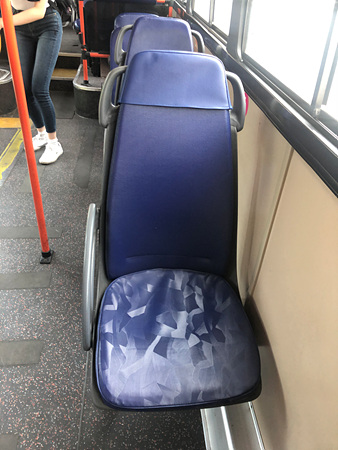seat: (97, 53, 262, 405)
